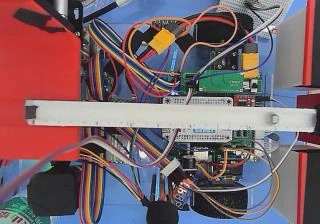ironball: (269, 114, 278, 124)
